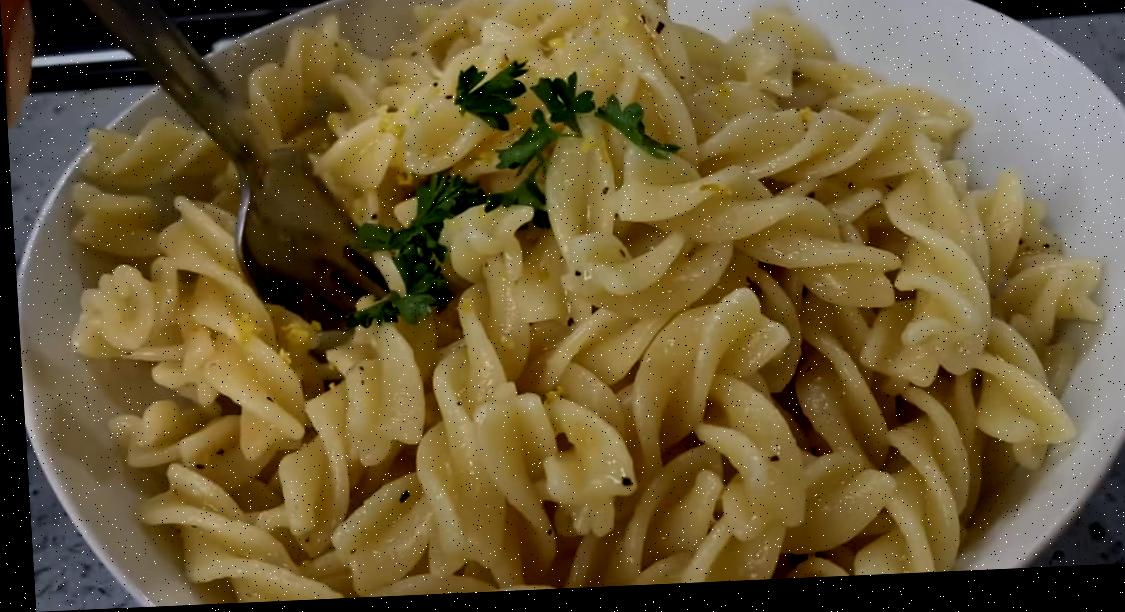pasta: (72, 0, 1101, 600)
